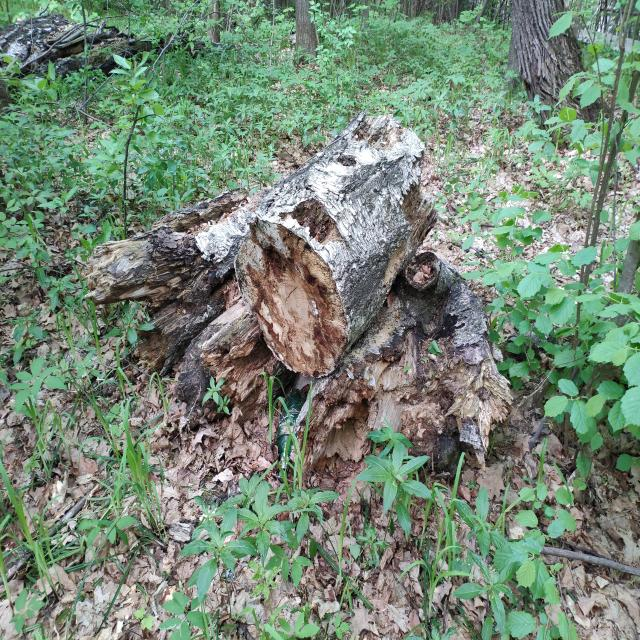restos de madeira: (237, 112, 438, 366), (300, 295, 448, 492), (86, 191, 266, 306), (436, 255, 506, 464), (197, 304, 276, 404), (513, 539, 640, 578), (166, 336, 221, 422), (409, 246, 465, 298), (74, 104, 112, 127), (30, 100, 86, 108)
